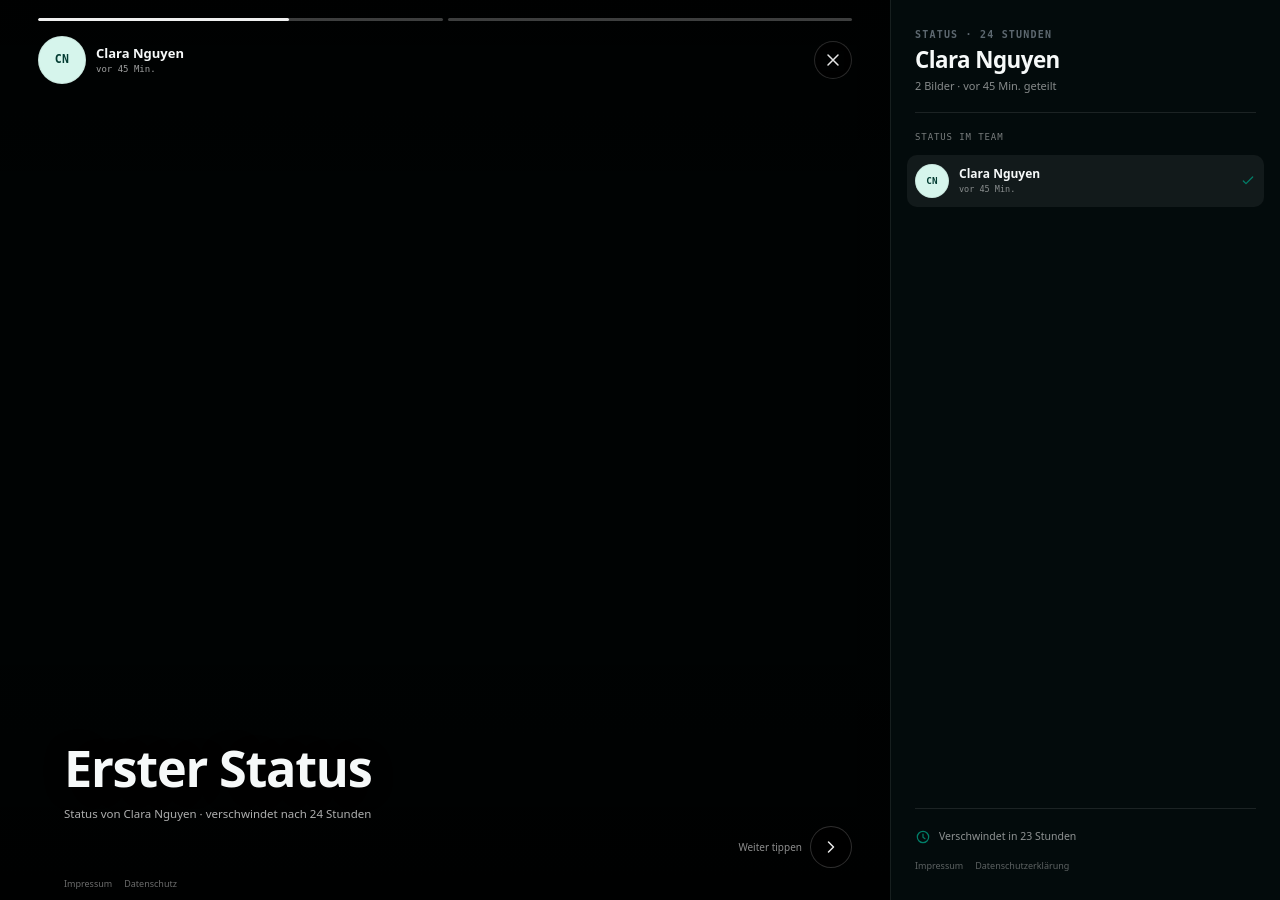
Test: StatusViewer › advances on a tap on the stage
This screenshot has width=1280, height=900.
Expected: the heading "Erster Status" is shown, [64,733,372,802]
What coordinates should you click on to do the following:
click the element named "Statusanzeige"
I would click on:
 (445, 450)
Its box is [0,0,890,899].
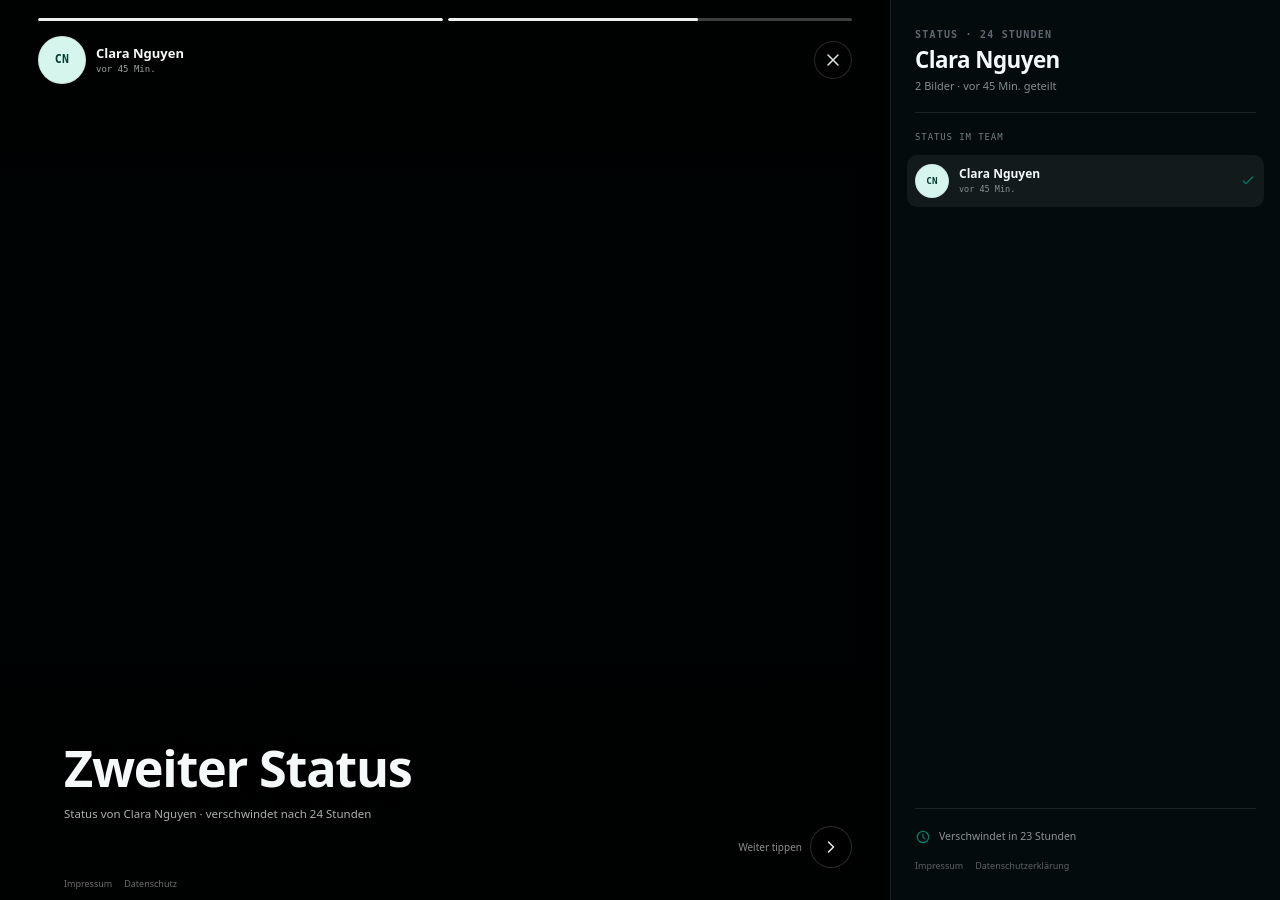
Expected: the heading "Zweiter Status" is shown, [64,733,412,802]
